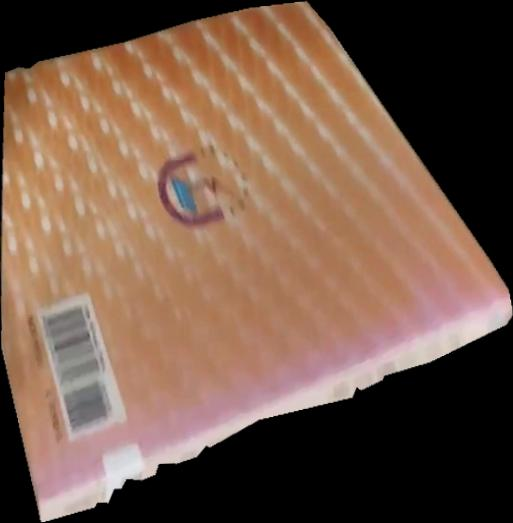flat: (1, 1, 513, 523)
